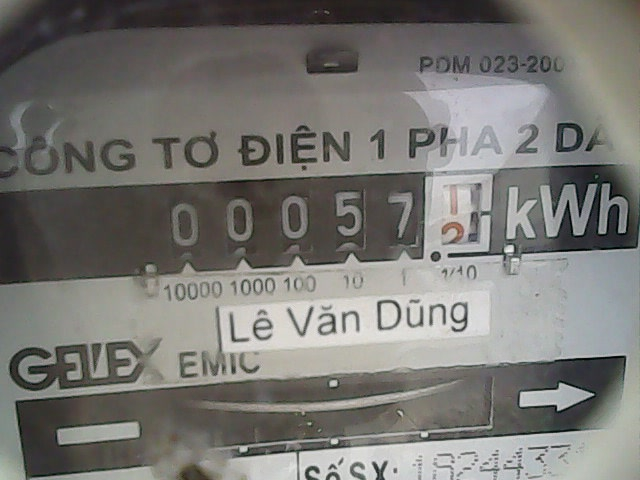phy_plate: (147, 171, 501, 259)
